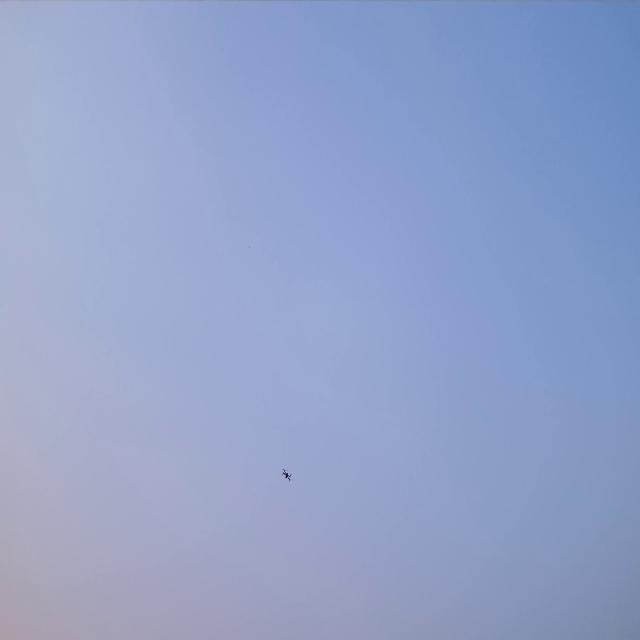UAV: (280, 465, 292, 483)
